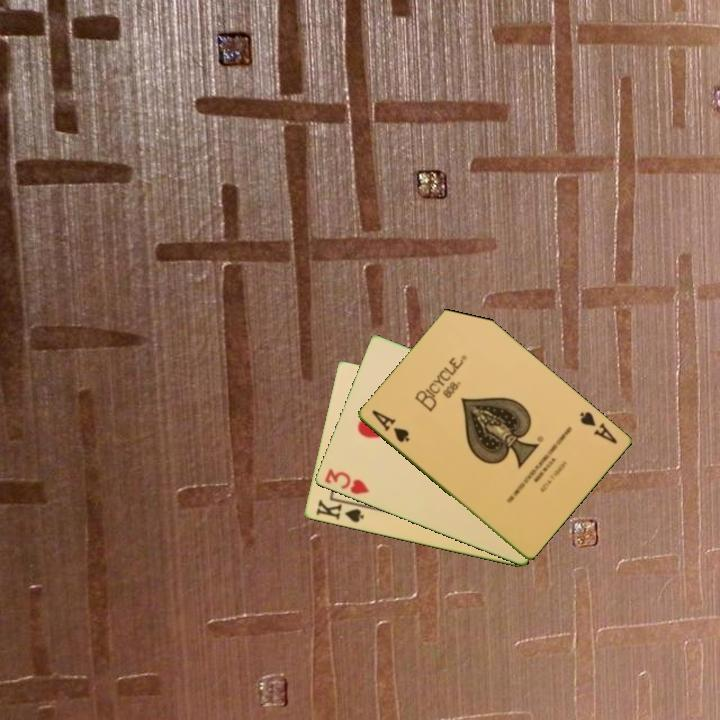3h: (321, 465, 372, 498)
As: (575, 408, 620, 447), (368, 406, 412, 445)
Ks: (312, 496, 368, 526)
